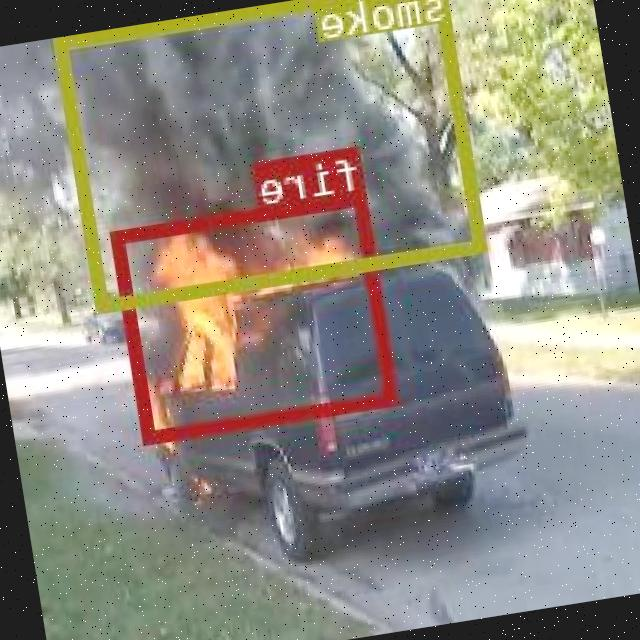fire: (113, 190, 400, 443)
smoke: (56, 0, 491, 311)
